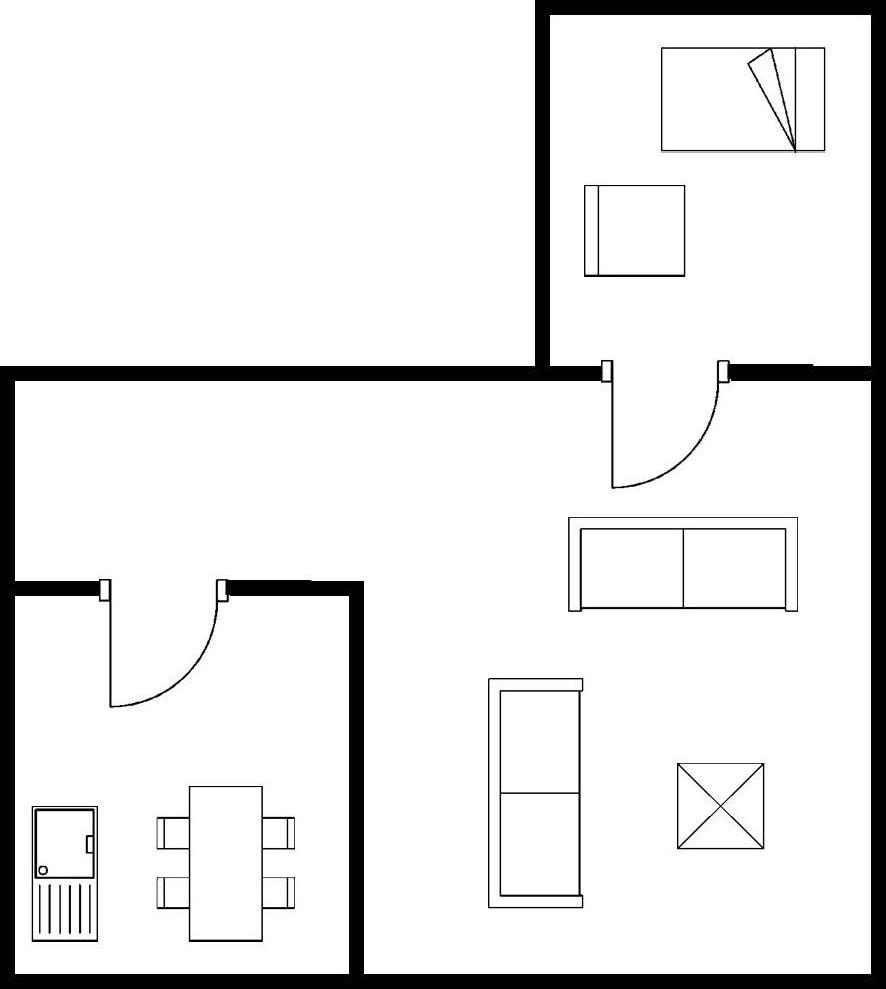bed: (652, 40, 831, 158)
dining_table: (152, 778, 300, 948)
sink: (25, 800, 104, 948)
sofa: (482, 673, 590, 913), (561, 510, 802, 617)
